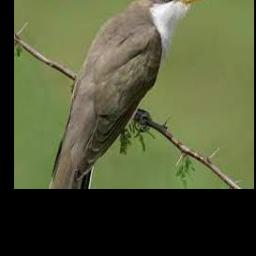Cuckoo: (48, 0, 209, 189)
